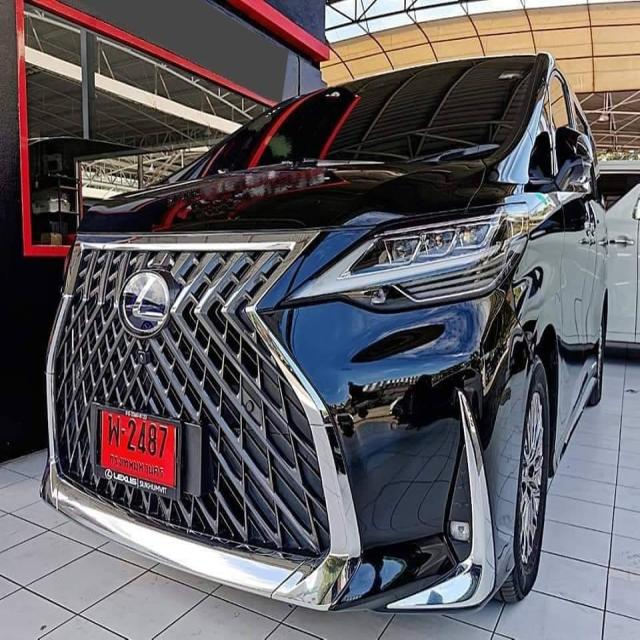license_plate: (92, 399, 187, 504)
